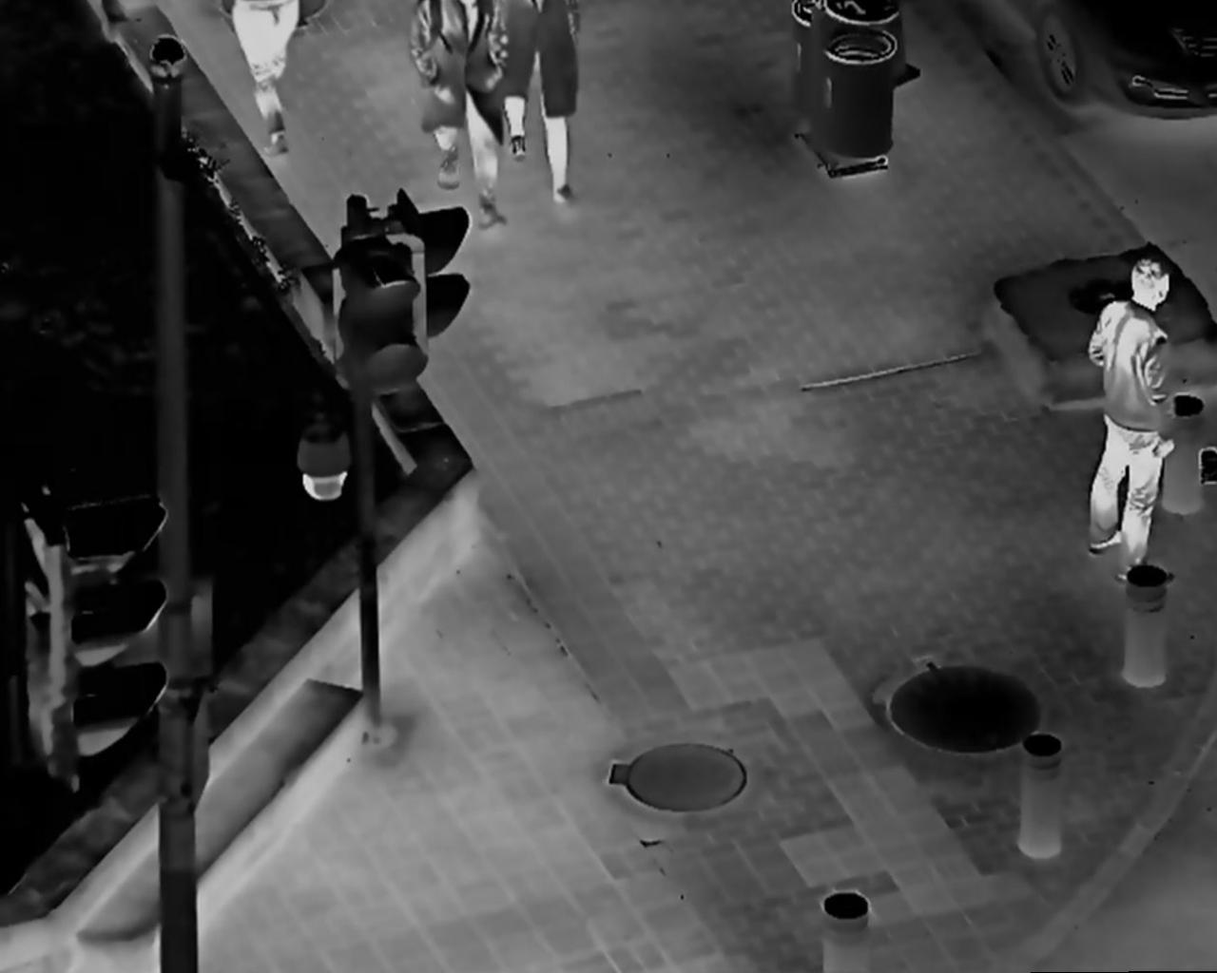person: (1083, 256, 1178, 587)
